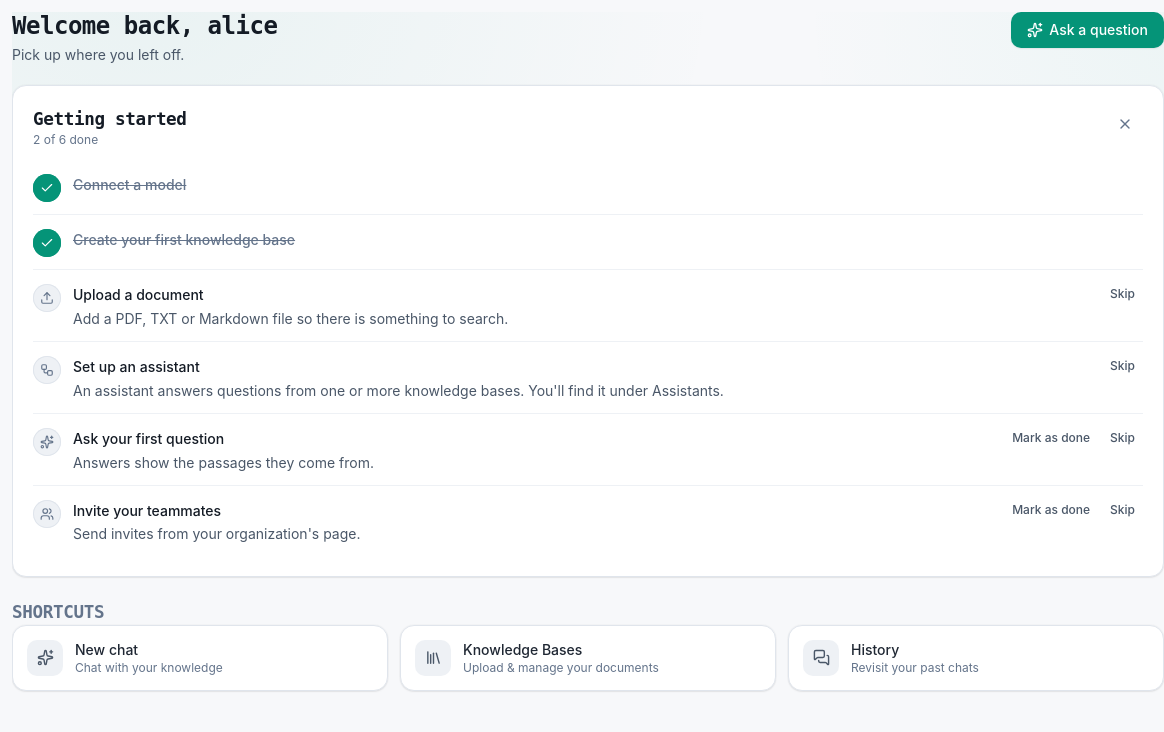
Getting started state › stores a skipped step with PATCH and removes it
Click the button with aria-label "Skip: Invite your teammates".
click(1123, 510)  # box 1102,498 -> 1143,522
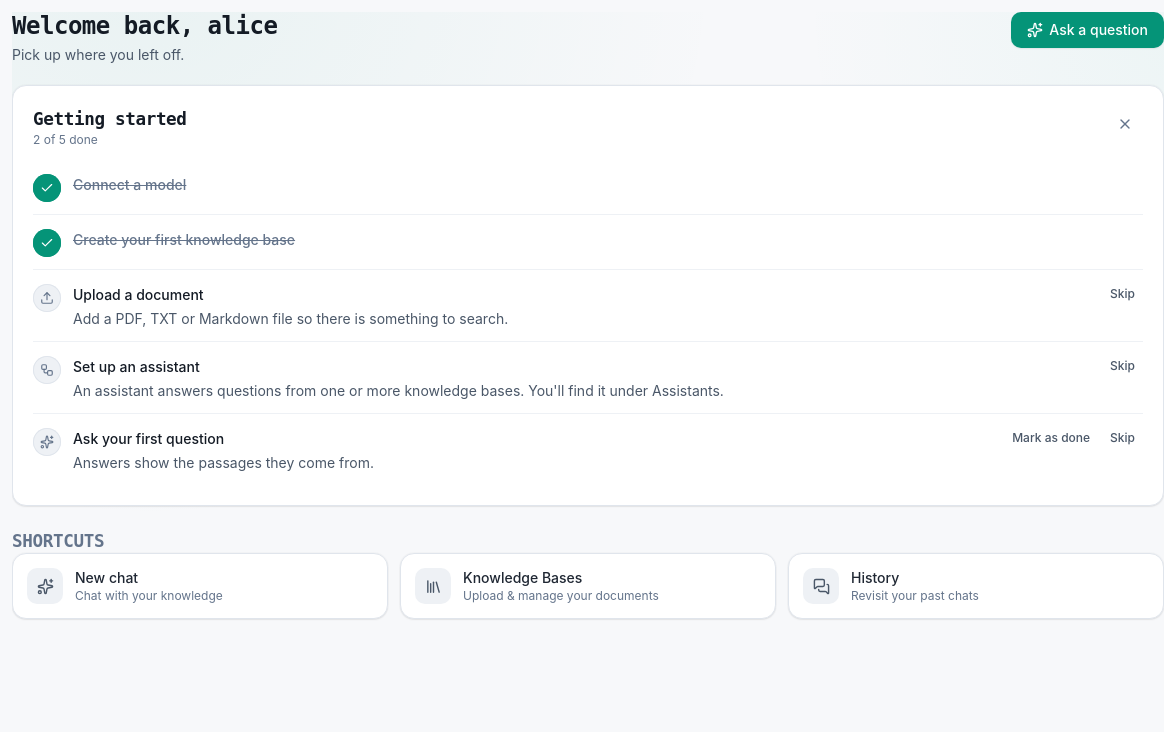
expect the link "Invite your teammates" is gone: met
